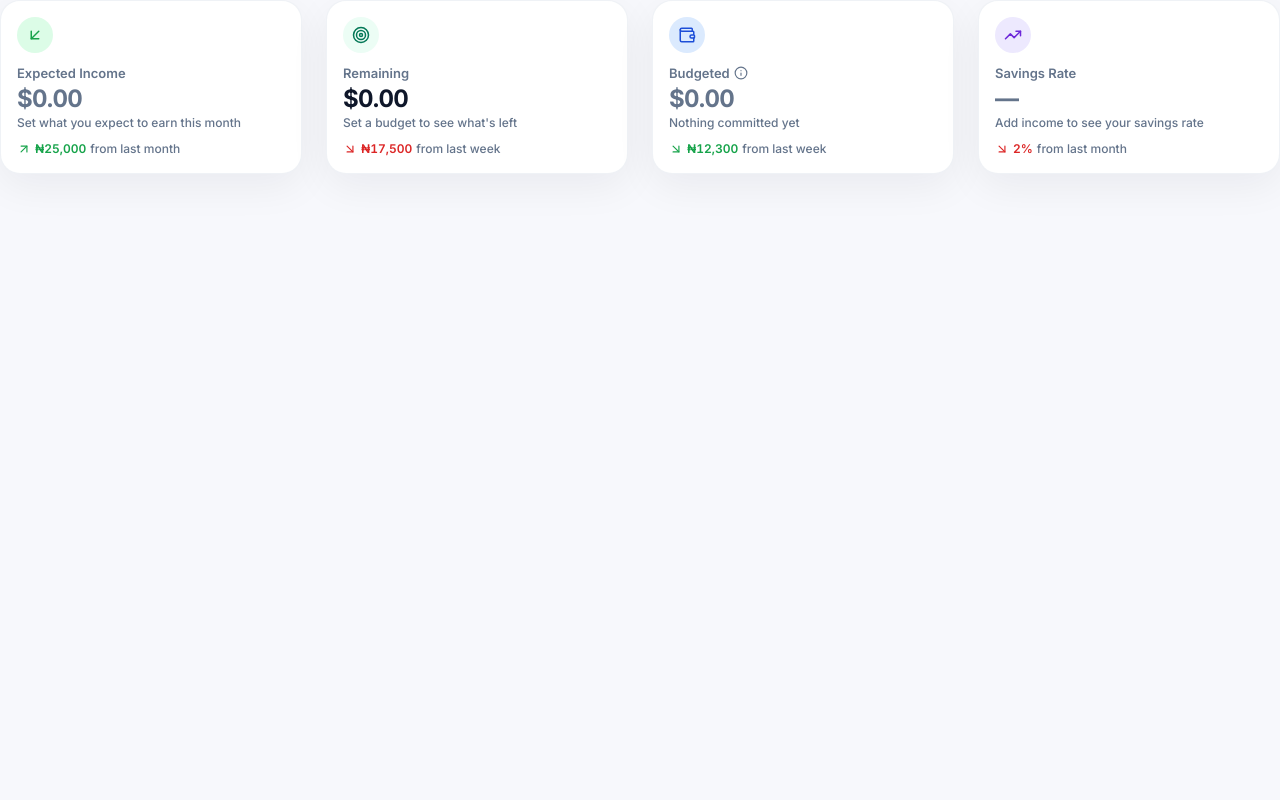
it: SummaryCards expected income › saving updates the store, the card, and the other summary values
Click the button with aria-label "Set expected income".
click(35, 35)  # box [0, 0, 302, 174]
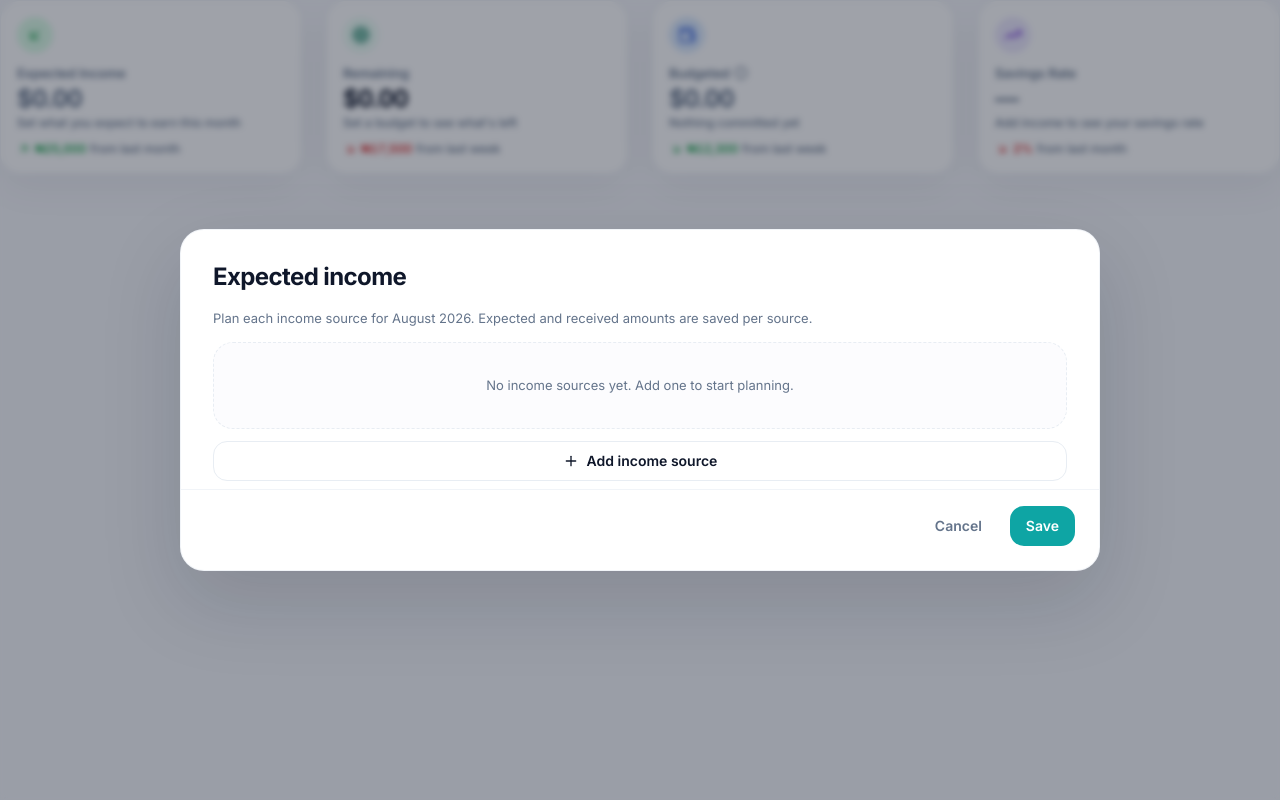
Click the button "Add income source".
click(640, 461)  # box [213, 441, 1067, 481]
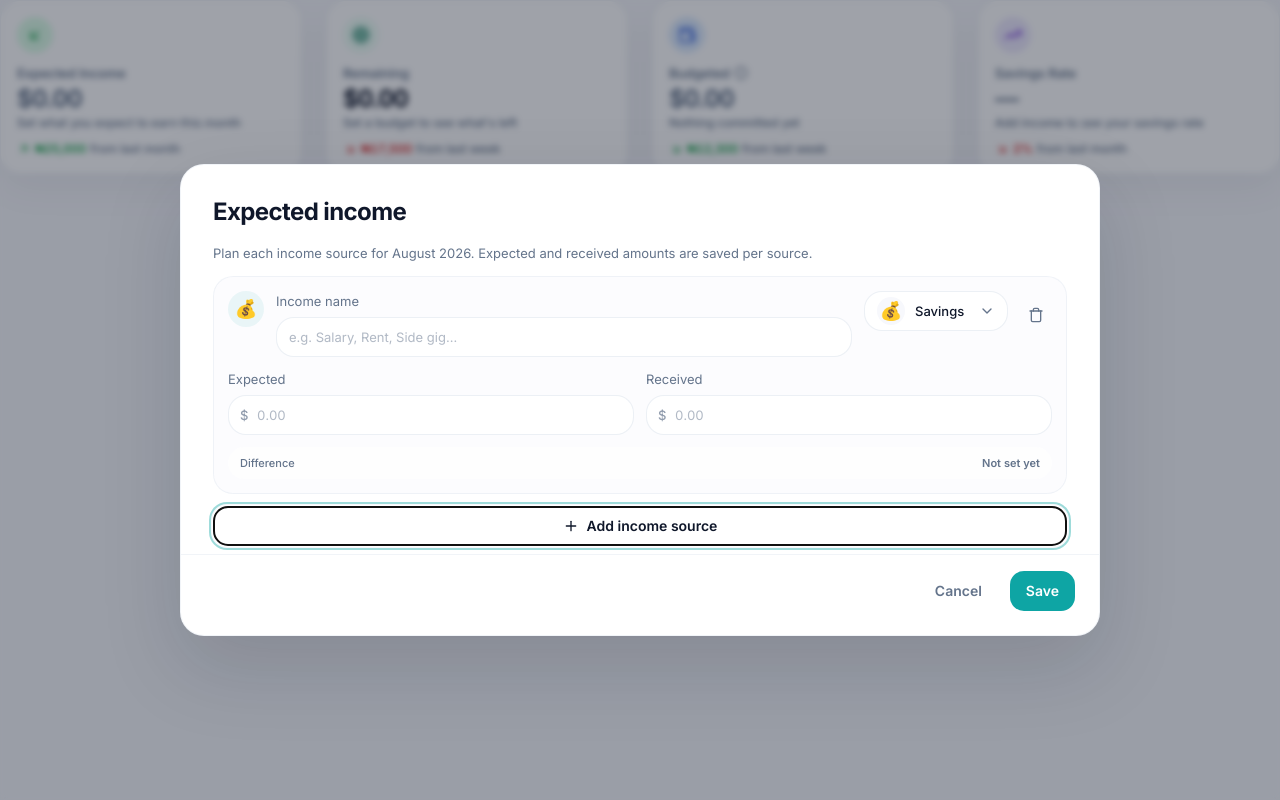
Type "Salary" into the field labelled "Income name".
click(564, 337); type("Salary")  # box [276, 317, 852, 357]
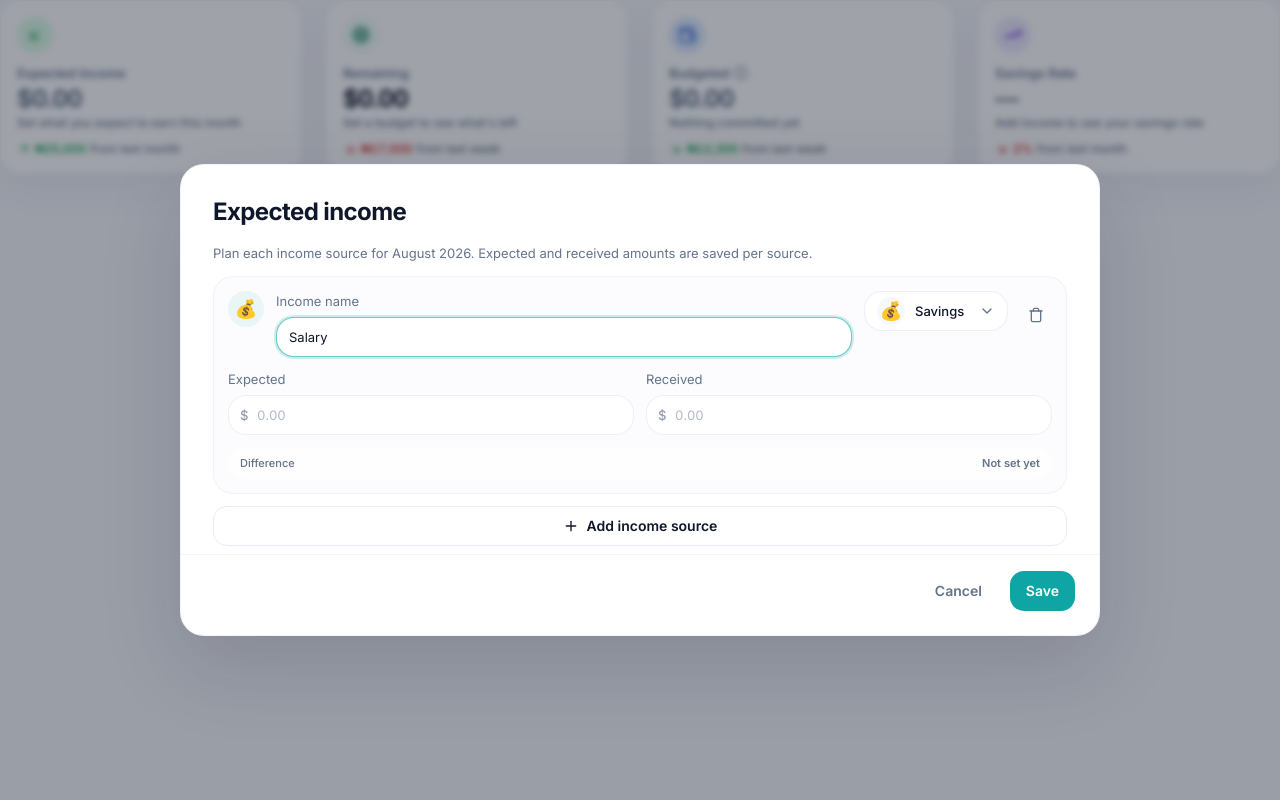
Type "2500" into the field named "Expected amount for Salary".
click(431, 415); type("2500")  # box [228, 395, 634, 435]
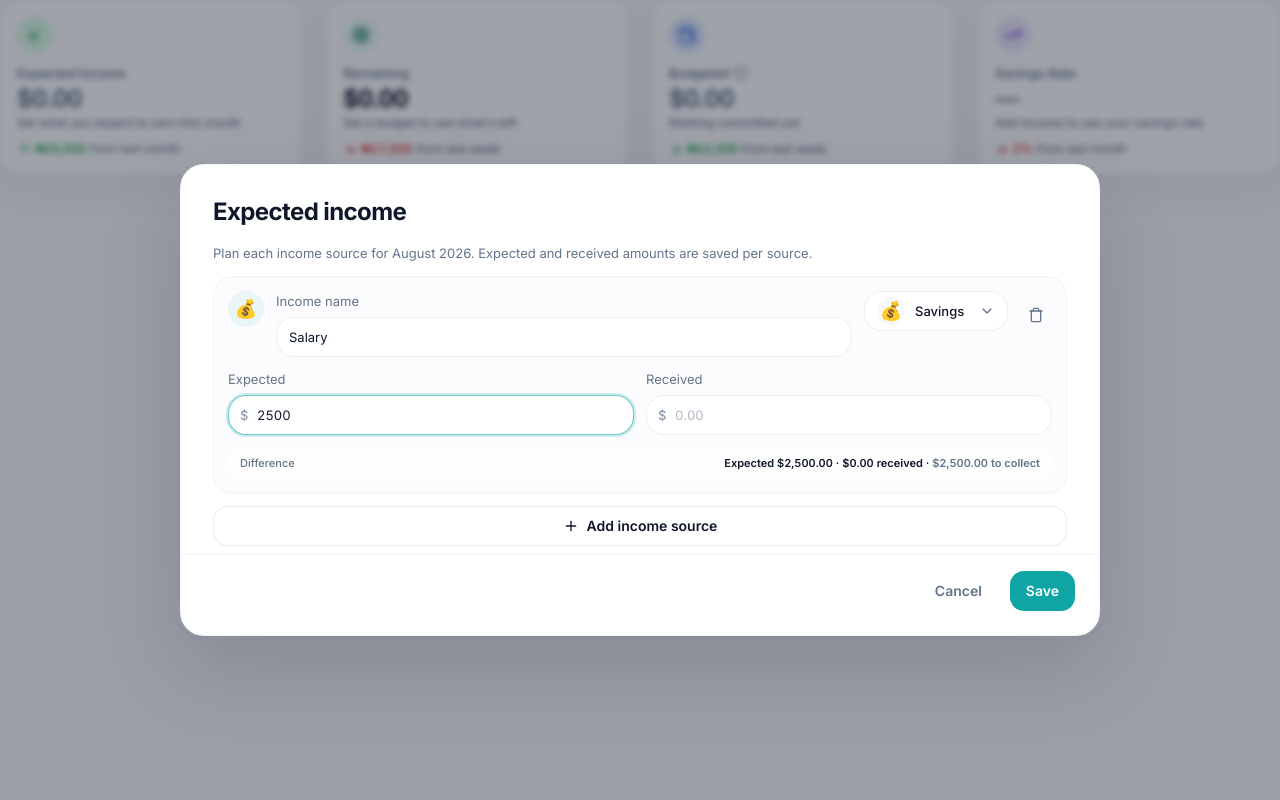
Click the button "Save".
click(1042, 591)  # box [1010, 571, 1075, 611]
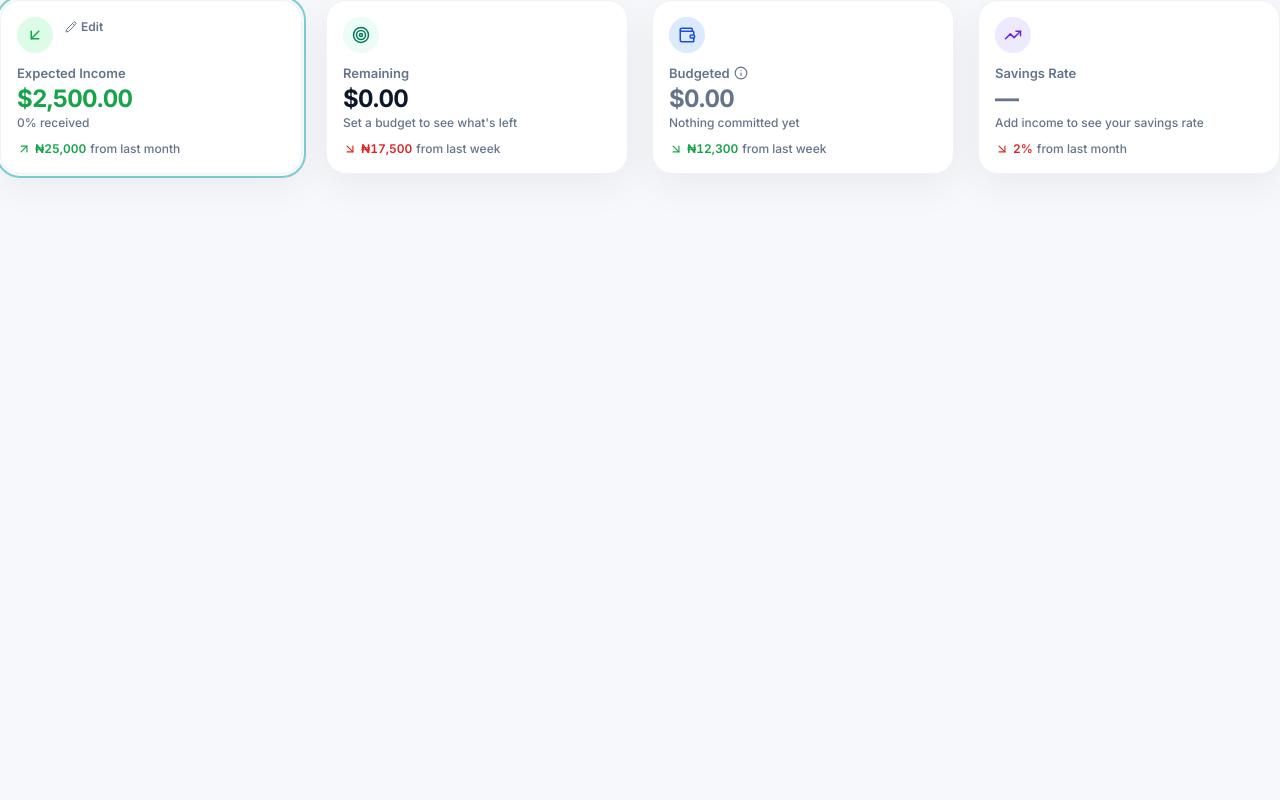
Check: the text "$2,500.00" is shown, box [17, 84, 132, 113]
Click the button "Savings Rate".
click(1013, 35)  # box [978, 0, 1279, 174]
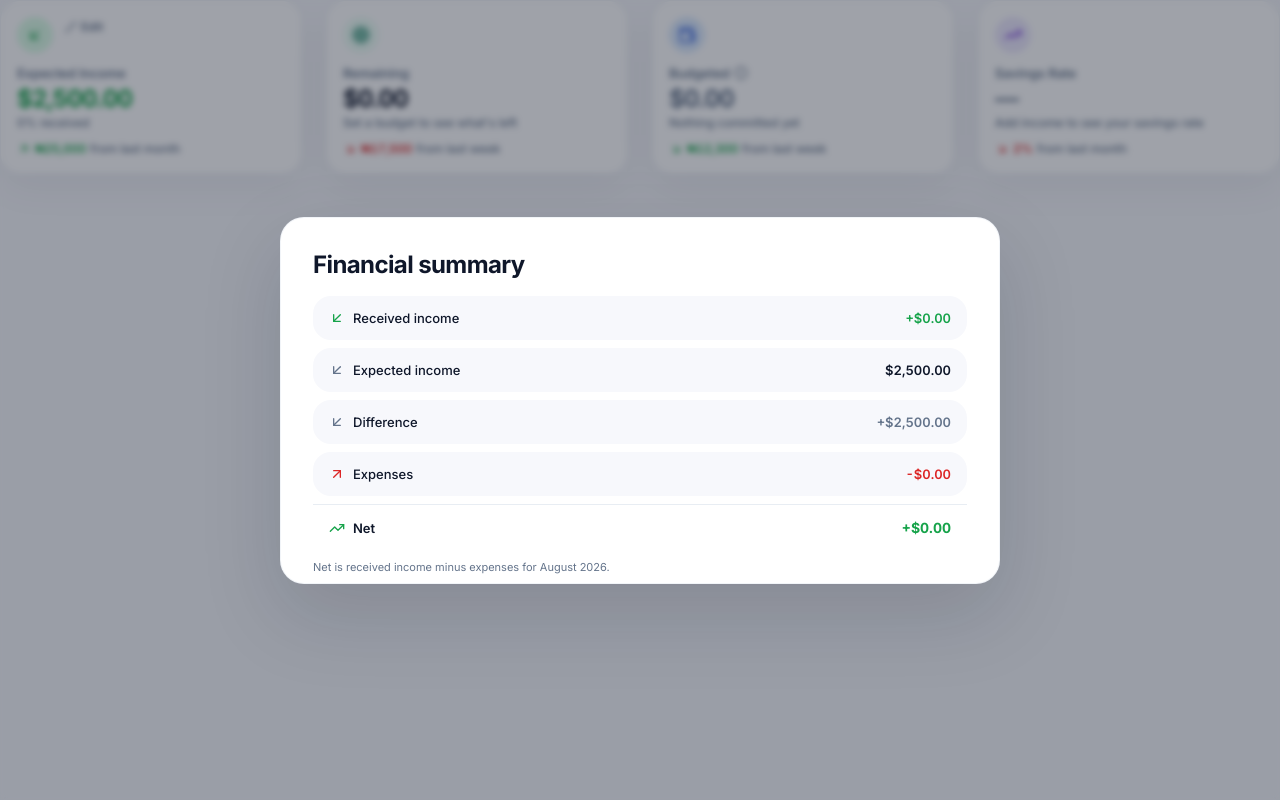
Check: the text "Expected income" is shown, box [329, 360, 460, 380]
Check: the text "$2,500.00" is shown, box [885, 360, 951, 380]
Check: the text "+$0.00" is shown 2 times, box [905, 308, 951, 328]; [902, 516, 951, 538]
